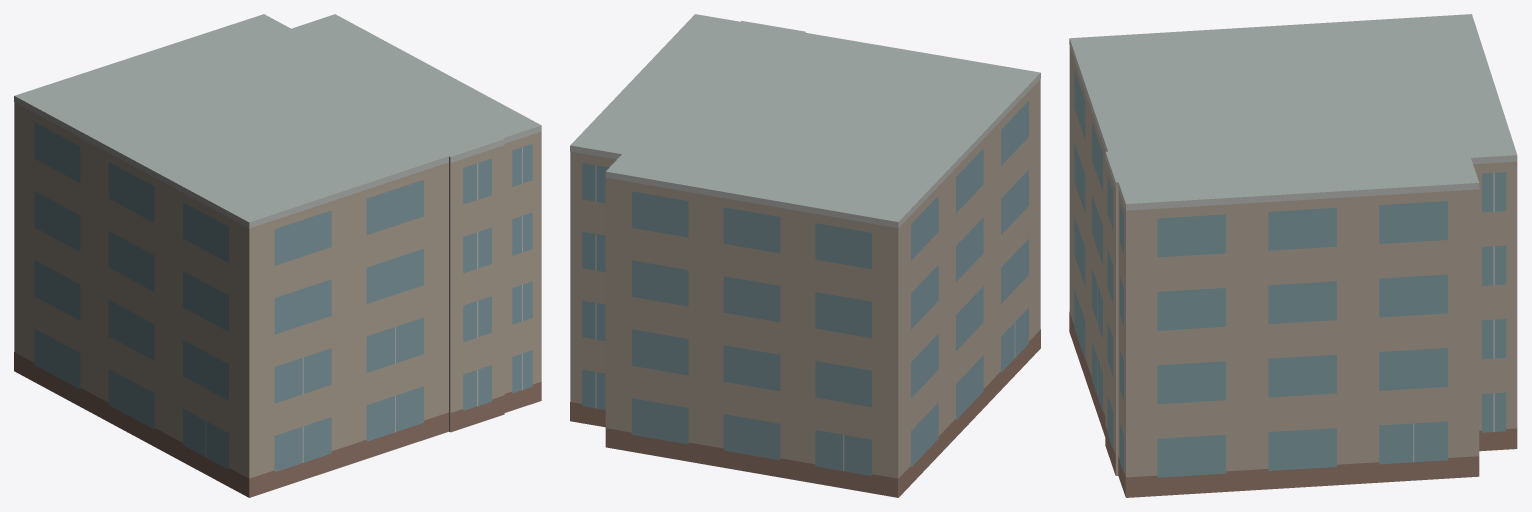
File: survey-upis-32577197.glb
The picture shows the model from 3 angles, left to right: view 1: azimuth 30°, elevation 25°; view 2: azimuth 150°, elevation 25°; view 3: azimuth 270°, elevation 25°; orthographic projection. The views are drawn at different scales.
Parts seen in each view (by area): view 1: survey-upis-32577197.tmp; view 2: survey-upis-32577197.tmp; view 3: survey-upis-32577197.tmp.
Boxes of the visible parts, x1,y1,x2,y2 form: survey-upis-32577197.tmp: (14, 14, 541, 497); survey-upis-32577197.tmp: (570, 14, 1040, 497); survey-upis-32577197.tmp: (1069, 14, 1517, 497).
Bounding box in the file's own units: 15.32 × 11.03 × 15.25.
